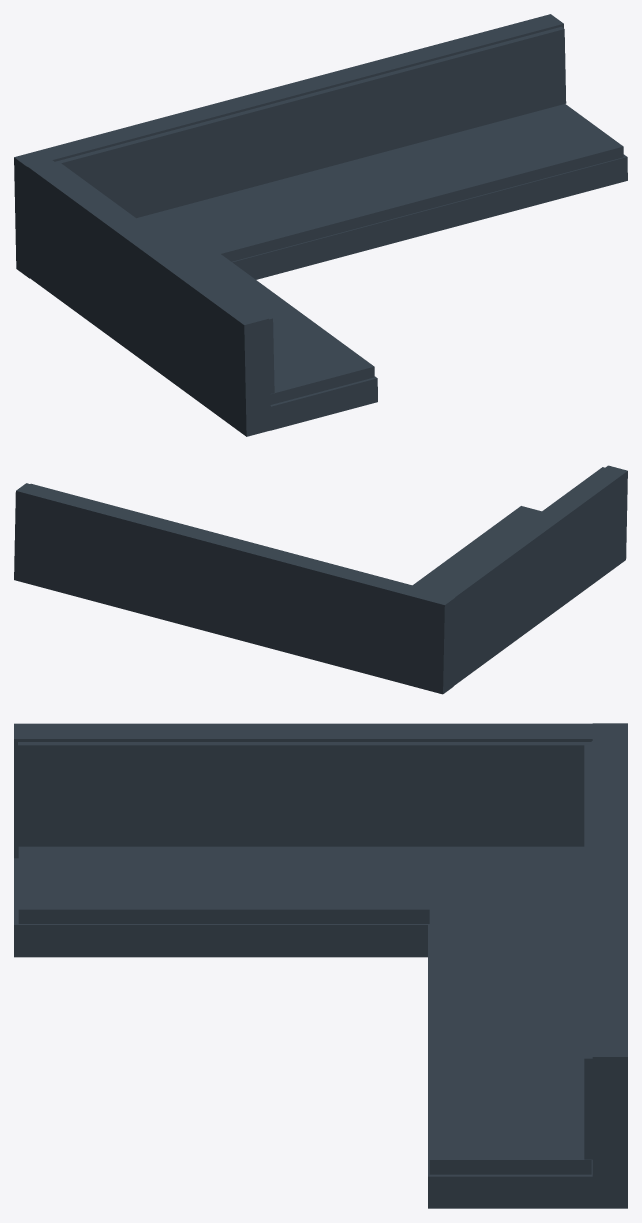
Rendered from Couch_2.fbx.
3 renders of one model, top to bottom at view 1: azimuth 30°, elevation 25°; view 2: azimuth 150°, elevation 25°; view 3: azimuth 270°, elevation 25°, orthographic. The views are drawn at different scales.
Parts seen in each view (by area): view 1: Couch_2; view 2: Couch_2; view 3: Couch_2.
Part boxes in pixels (x1,y1,x2,y2): Couch_2: [14, 14, 627, 436]; Couch_2: [14, 465, 627, 694]; Couch_2: [14, 723, 627, 1208].
Bounding box in the file's own units: 985 × 218 × 727.
